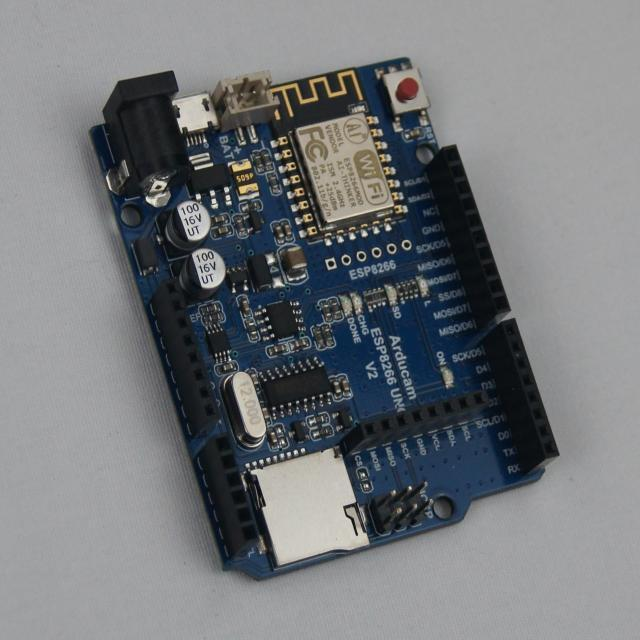Arduino Uno Camera Shield: (92, 59, 559, 578)
